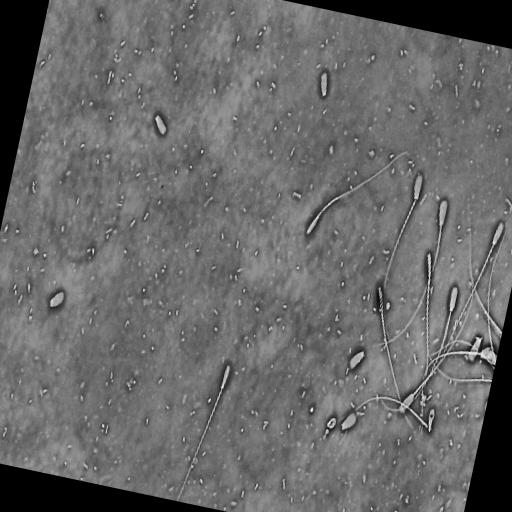dirt-particles: (324, 414, 337, 431)
folded-tail: (378, 286, 412, 426), (350, 396, 428, 428)
loose-head: (467, 334, 483, 364), (153, 109, 167, 138), (349, 348, 365, 372), (48, 288, 65, 310), (340, 410, 357, 432), (318, 69, 329, 101)
loose-tail: (420, 343, 497, 436), (466, 199, 502, 337), (486, 221, 508, 365), (426, 349, 492, 384)
normal: (398, 261, 474, 416), (432, 220, 505, 373), (374, 198, 447, 347), (378, 284, 458, 413), (302, 149, 410, 238), (177, 364, 230, 500), (375, 283, 417, 432), (384, 173, 423, 283), (335, 393, 435, 433), (422, 251, 431, 396)
